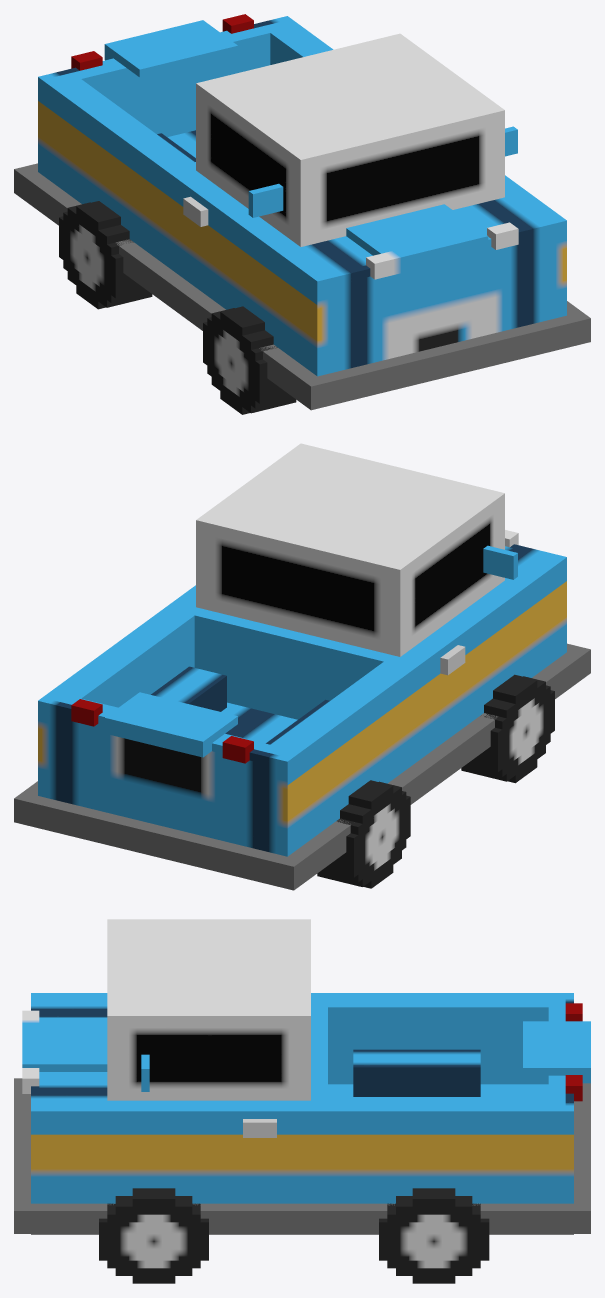
File: car_2_seats_1.fbx
3 views of the same model, one above another, from view 1: azimuth 30°, elevation 25°; view 2: azimuth 150°, elevation 25°; view 3: azimuth 270°, elevation 25° (orthographic). The views are drawn at different scales.
Visible parts, largest first — view 1: body, back_right_wheel, back_left_wheel; view 2: body, back_left_wheel, back_right_wheel; view 3: body, front_left_wheel, front_right_wheel.
Part boxes in pixels (x1=…): body: x1=14, y1=14, x2=590, y2=410; back_right_wheel: x1=203, y1=306, x2=296, y2=414; back_left_wheel: x1=59, y1=201, x2=152, y2=309; body: x1=14, y1=443, x2=590, y2=890; back_left_wheel: x1=317, y1=780, x2=410, y2=888; back_right_wheel: x1=461, y1=674, x2=554, y2=783; body: x1=14, y1=919, x2=590, y2=1234; front_left_wheel: x1=379, y1=1188, x2=489, y2=1283; front_right_wheel: x1=99, y1=1188, x2=208, y2=1283.
Size of the model in its own units: 39 by 32 by 68.
1 material, 1 textured.
